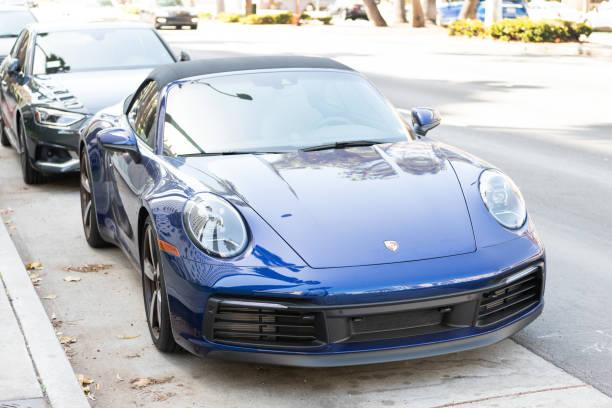porsche: (378, 236, 405, 256)
